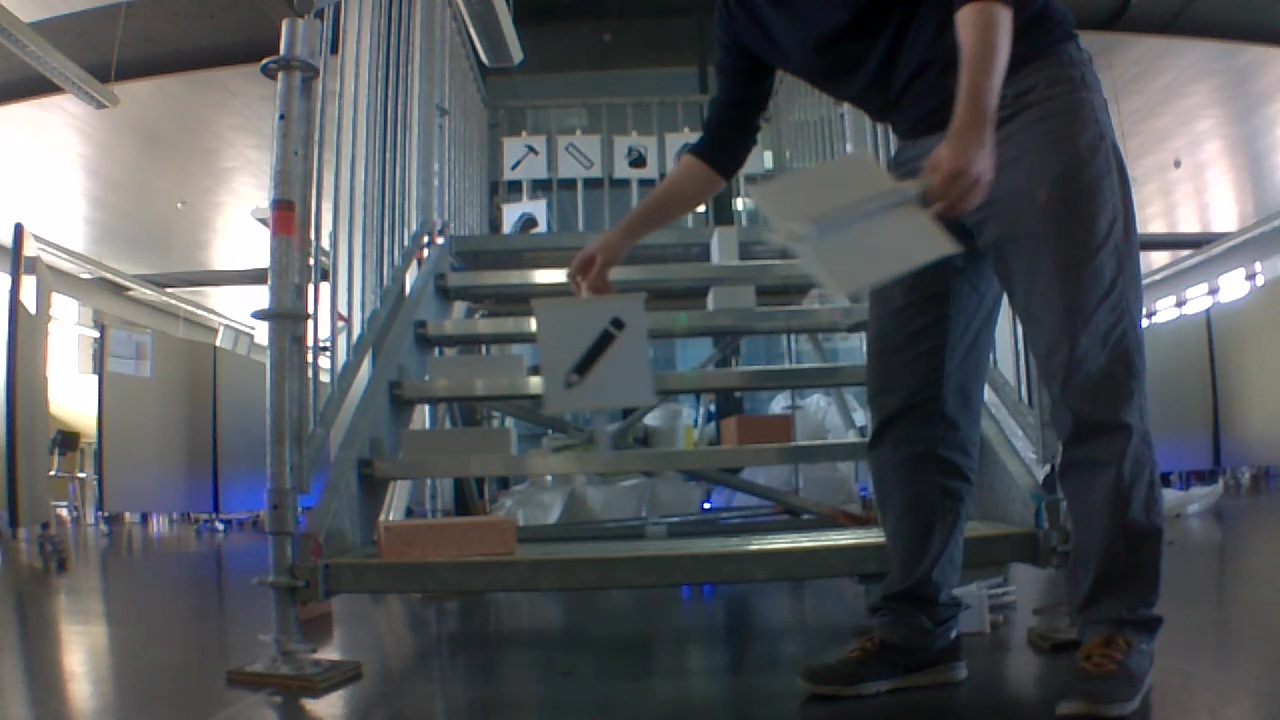brick: (378, 514, 518, 564), (403, 425, 524, 454), (424, 356, 523, 386), (718, 414, 797, 446), (711, 223, 738, 266), (708, 281, 757, 304)
bucket: (622, 143, 648, 173)
edge: (327, 541, 884, 599), (355, 441, 872, 482)
hammer: (508, 142, 541, 173)
pencil: (561, 312, 629, 392)
ruler: (564, 139, 599, 173)
taco: (510, 211, 538, 235)
